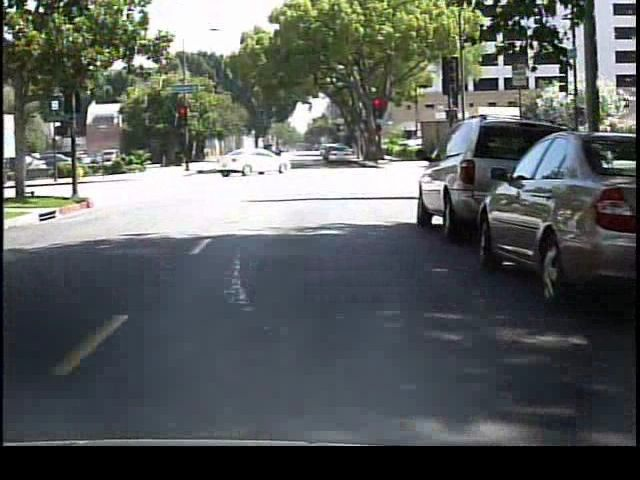person: (274, 140, 289, 171)
